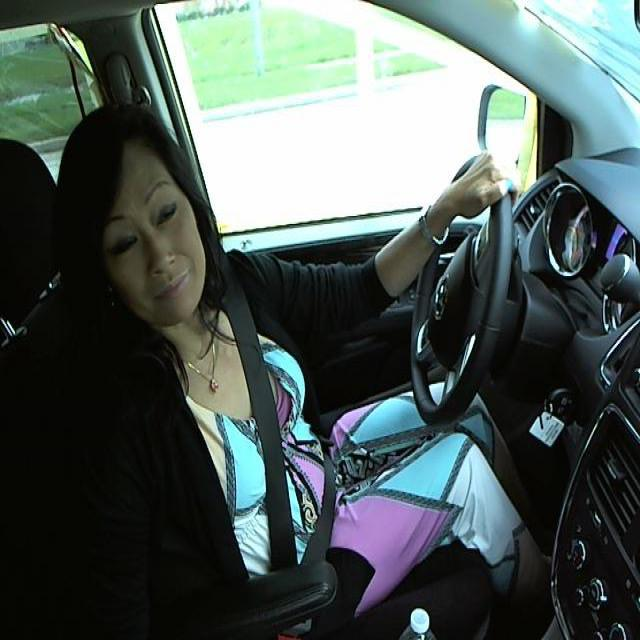seatbelt: (223, 300, 335, 567)
